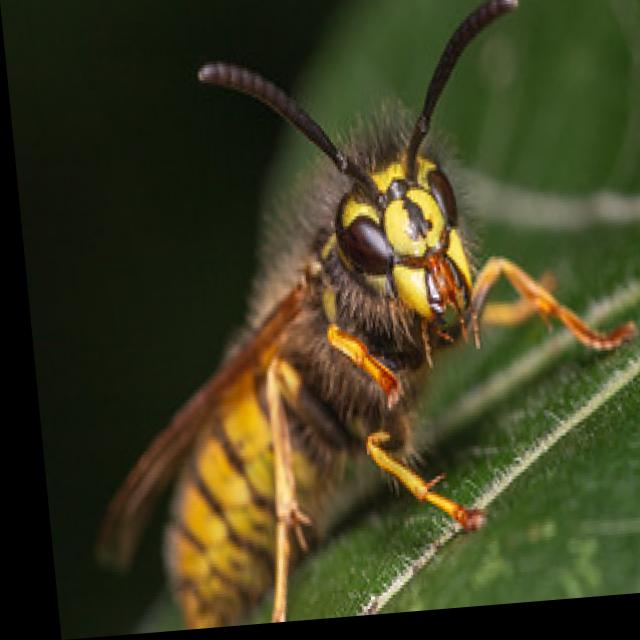Guepe: (29, 0, 639, 636)
